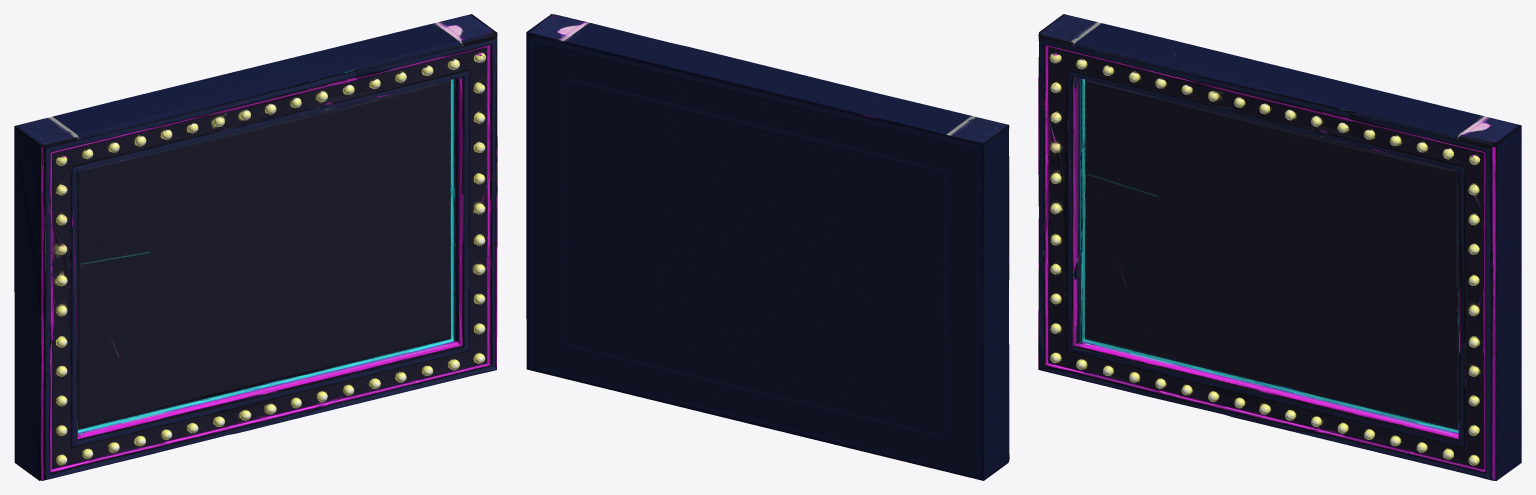
File: pared-records.glb
The picture shows the model from 3 angles, left to right: view 1: azimuth 30°, elevation 25°; view 2: azimuth 150°, elevation 25°; view 3: azimuth 330°, elevation 25°; orthographic projection.
Visible parts, largest first — view 1: Mesh_0; view 2: Mesh_0; view 3: Mesh_0.
Part boxes in pixels (x1,y1,x2,y2): Mesh_0: (14,14,497,480); Mesh_0: (526,14,1009,480); Mesh_0: (1038,14,1521,480).
Bounding box in the file's own units: 1.9 × 1.34 × 0.2208.
1 material, 1 textured.
